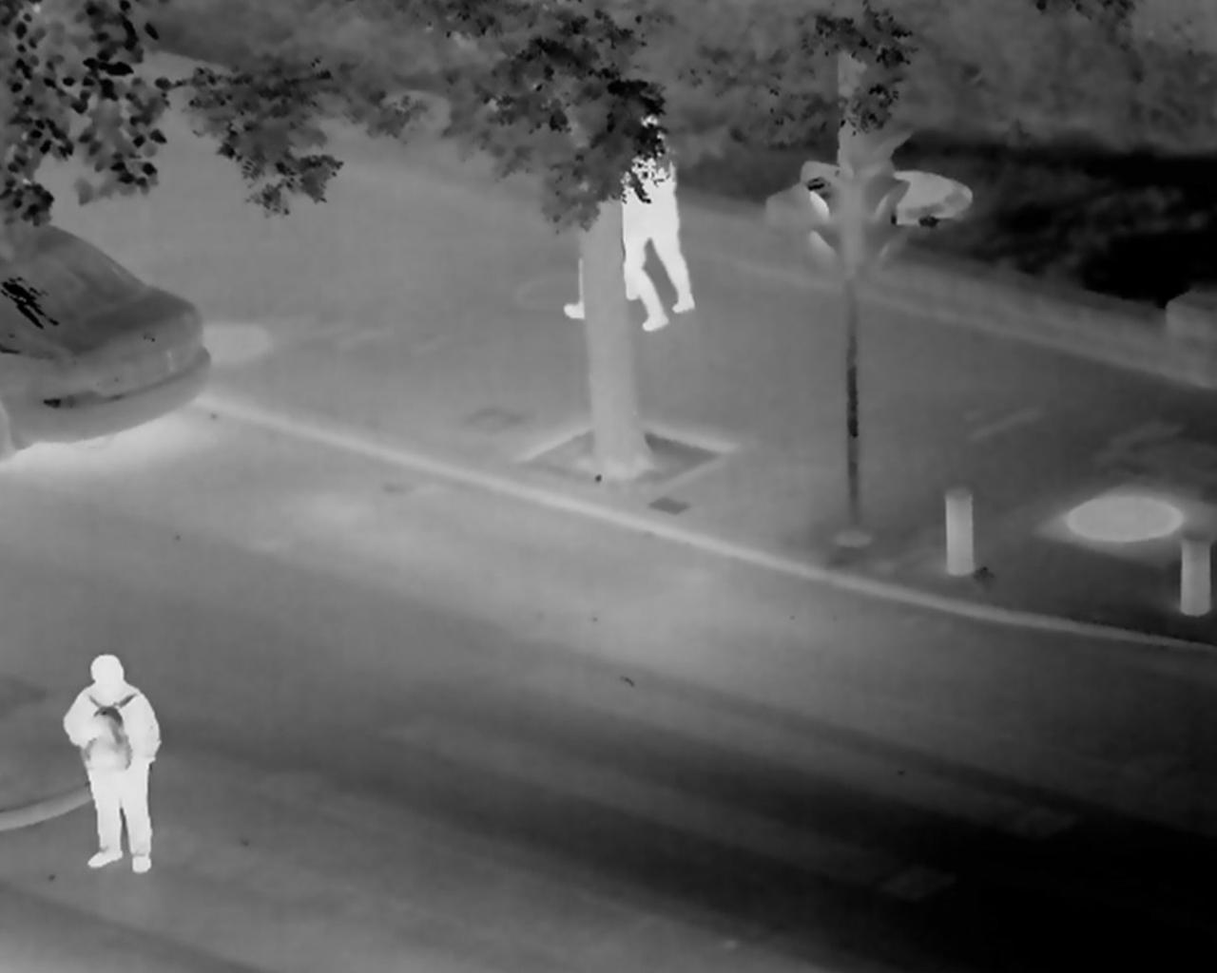person: (49, 647, 171, 886), (590, 146, 702, 337)
